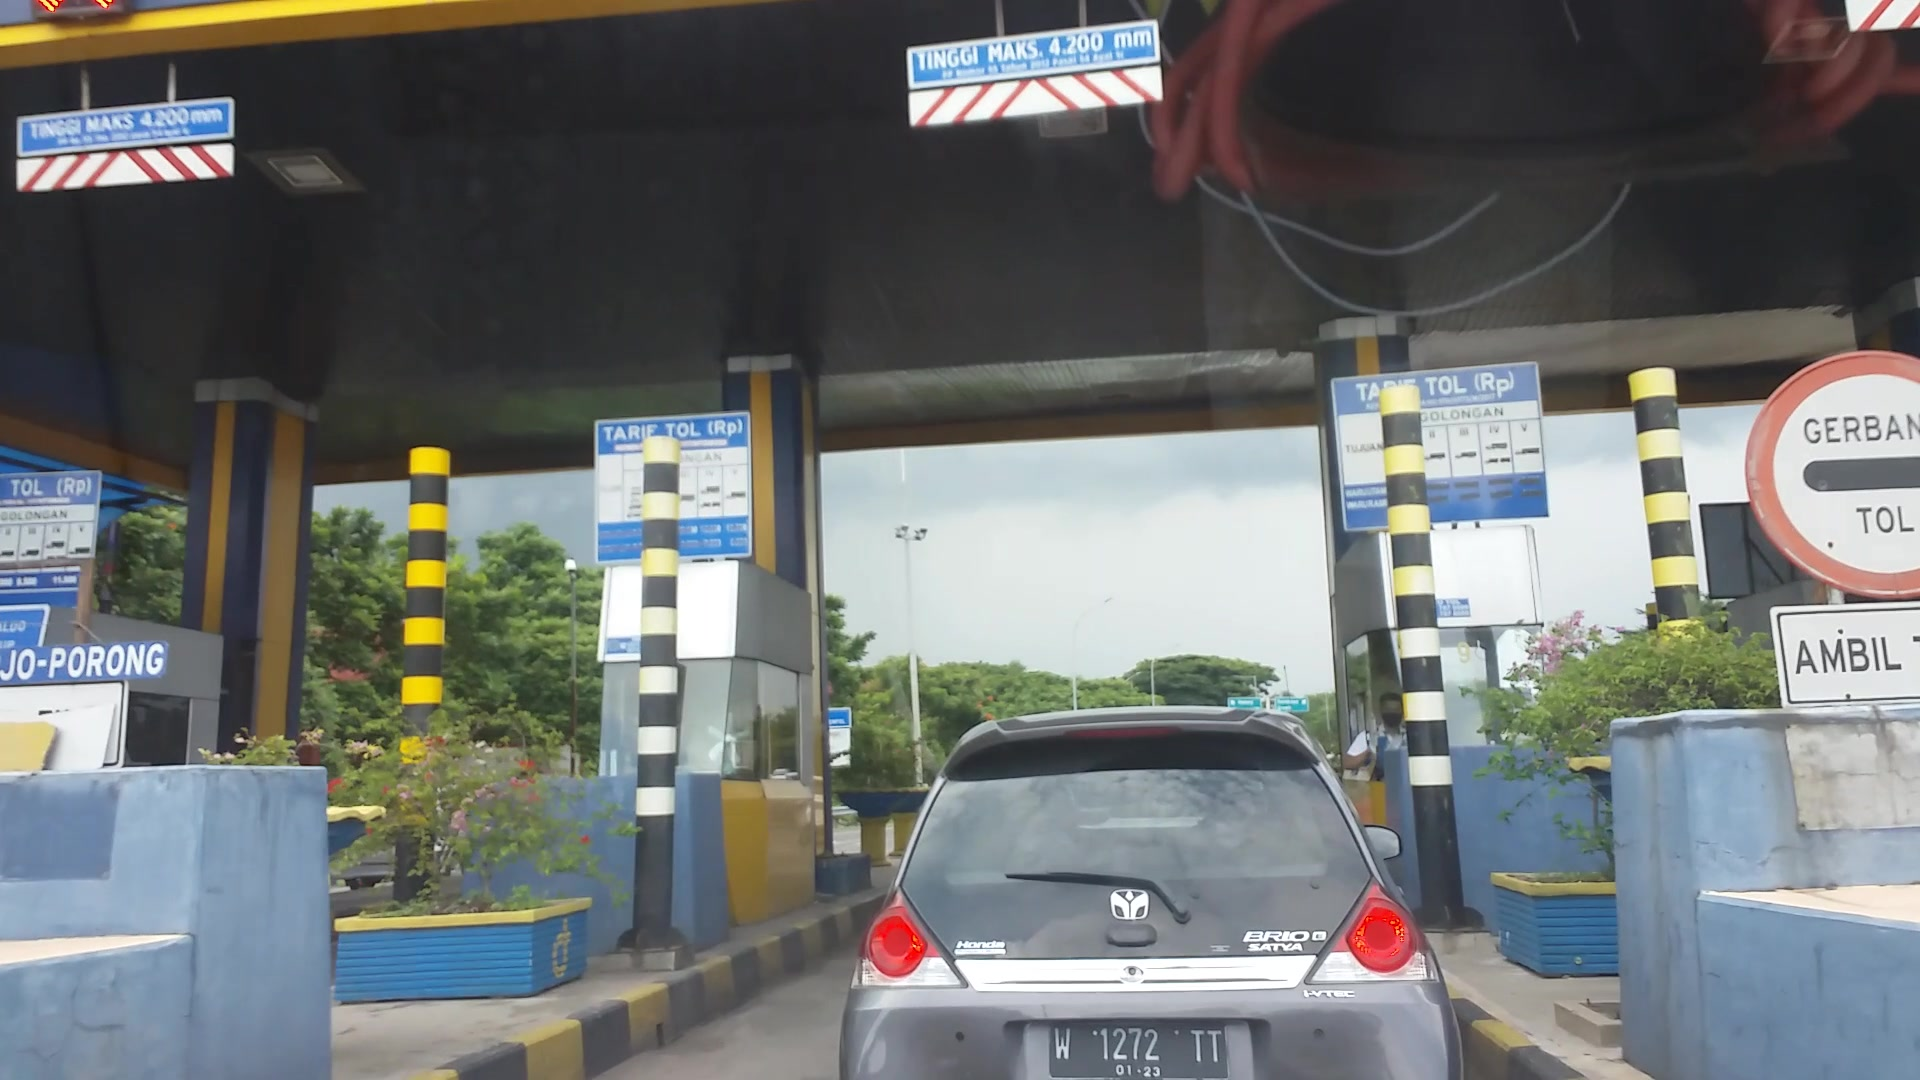plate_positive: (1050, 1021, 1226, 1077)
